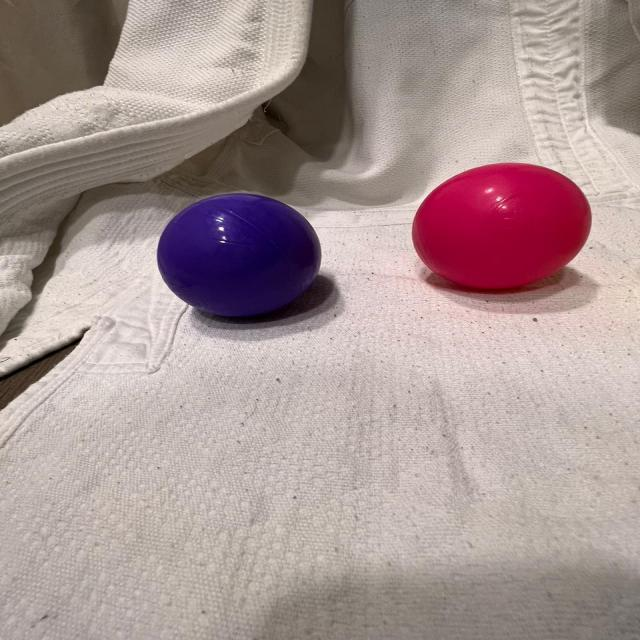ball: (408, 160, 592, 294), (154, 189, 324, 321)
